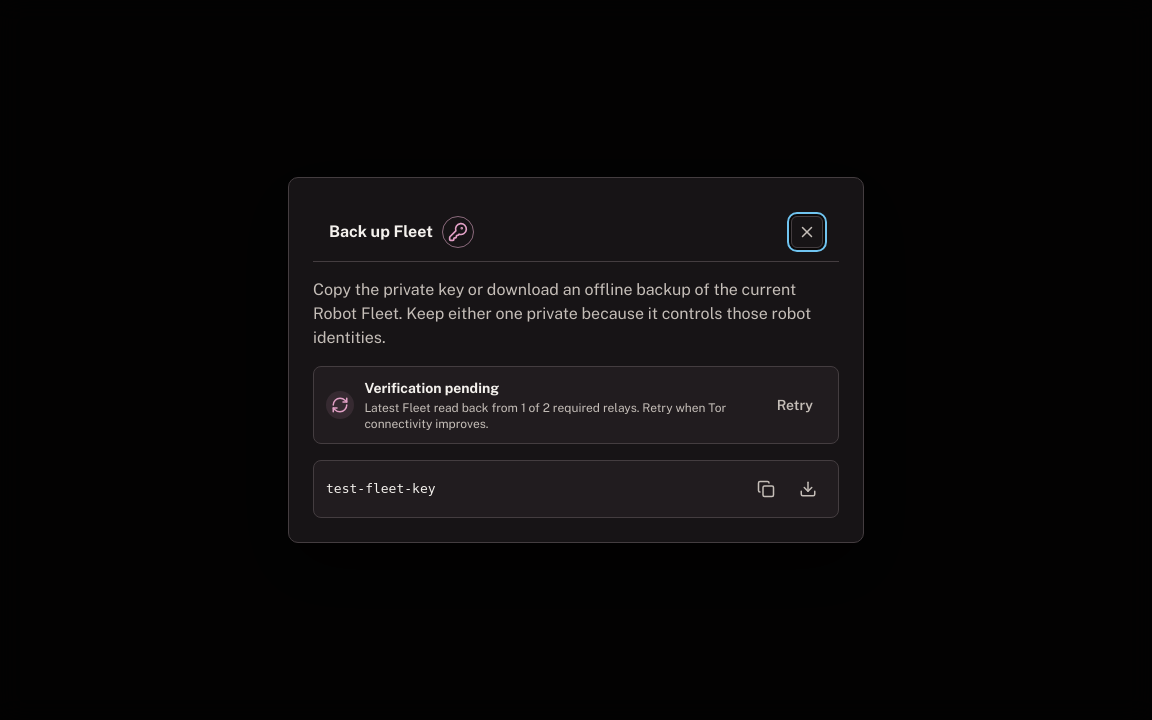
Test: FleetKeyDialog › shows partial verification calmly and retries without closing the dialog
Click the button "Retry" at (795, 405), box top-left (764, 389), bottom-right (826, 421)
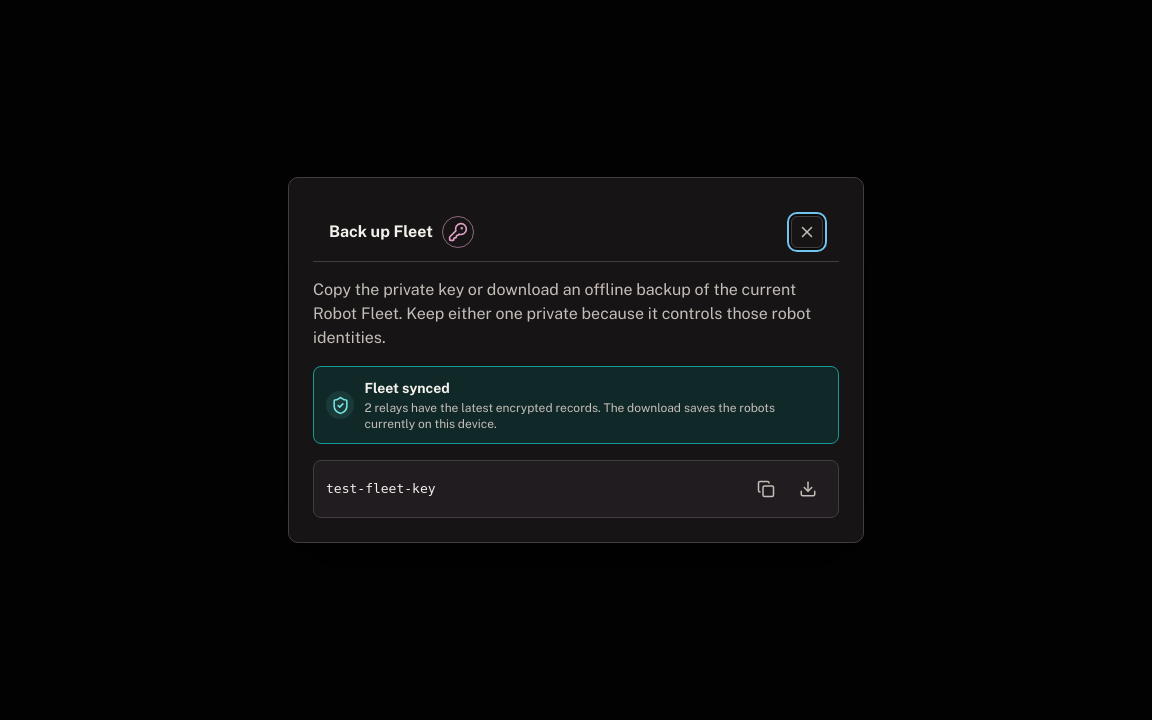
Expected: the text "Fleet synced" is shown, top-left (364, 380), bottom-right (450, 396)
